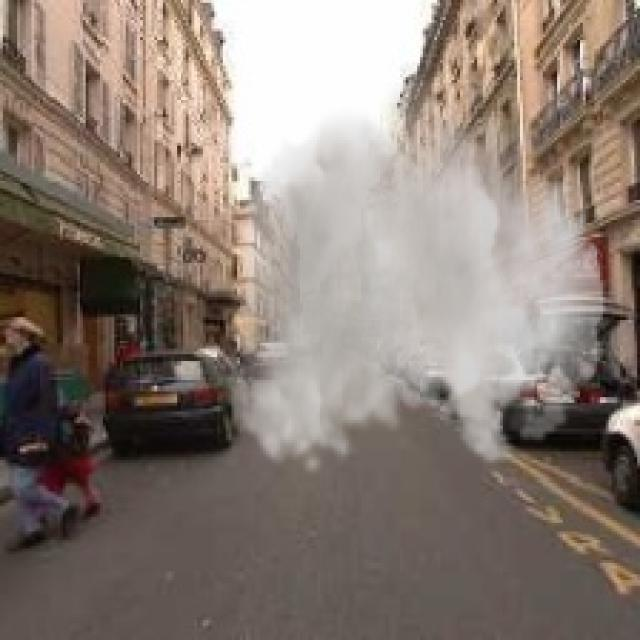Smoke: (225, 57, 606, 480)
